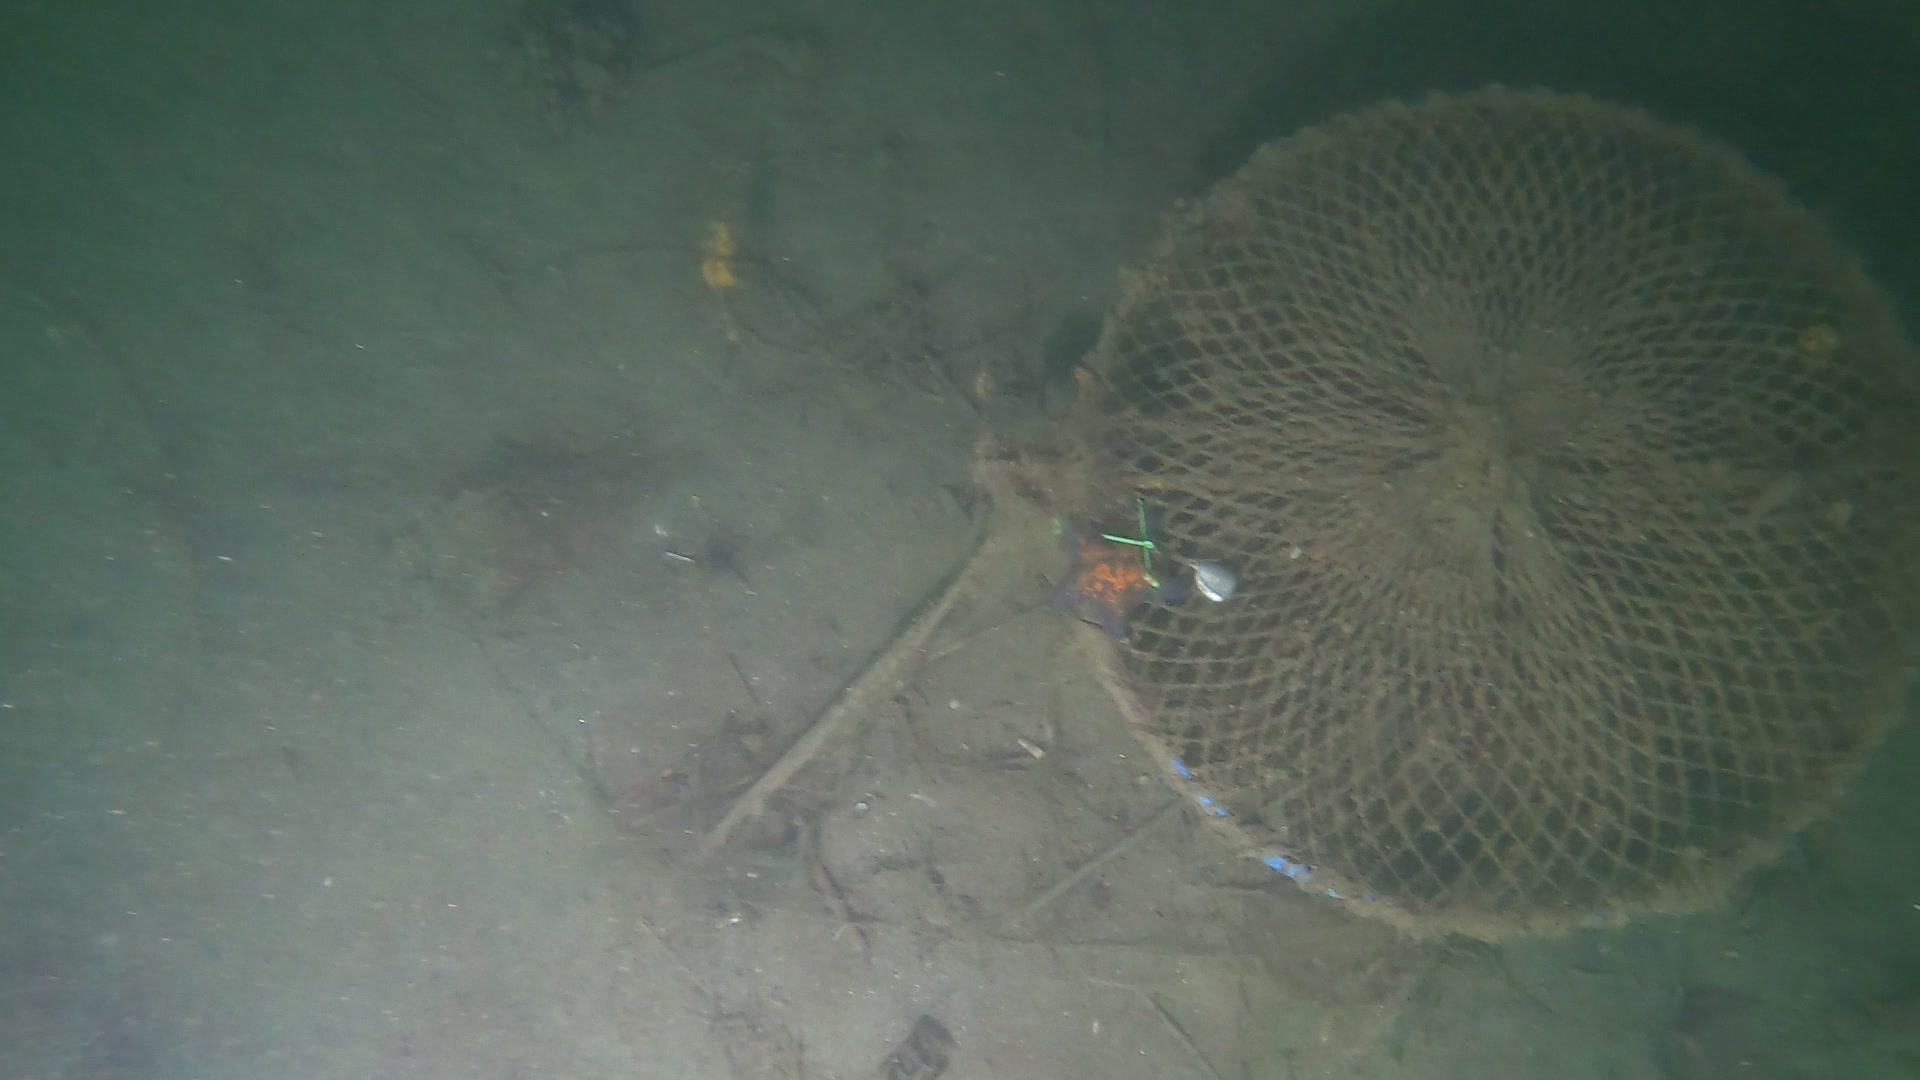circular fish trap: (1059, 76, 1920, 947)
